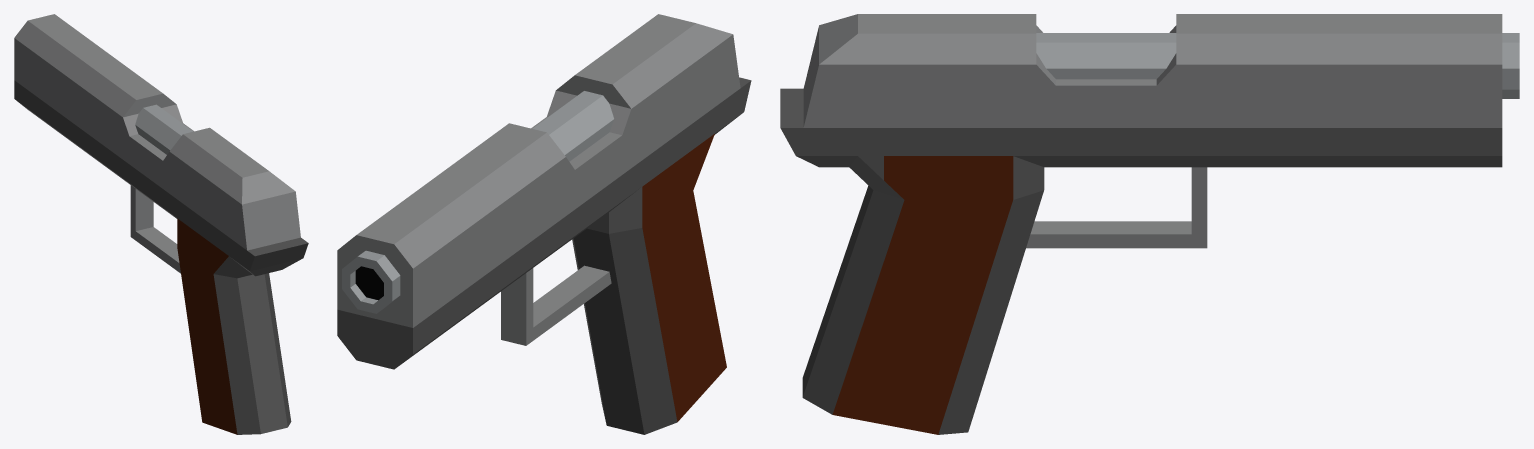
The model's file is gun.gltf.
3 views of the same model, side by side, from view 1: azimuth 30°, elevation 25°; view 2: azimuth 150°, elevation 25°; view 3: azimuth 270°, elevation 25° (orthographic). The views are drawn at different scales.
Visible parts, largest first — view 1: Slide, Grip, Receiver, cuboid, Barrel; view 2: Slide, Grip, Receiver, Barrel, cuboid; view 3: Slide, Grip, Receiver, Barrel, cuboid.
Boxes of the visible parts, x1,y1,x2,y2 form: Slide: [14, 14, 300, 250]; Grip: [177, 218, 291, 434]; Receiver: [14, 80, 308, 276]; cuboid: [130, 185, 180, 273]; Barrel: [135, 104, 192, 154]; Slide: [337, 14, 740, 327]; Grip: [572, 134, 726, 434]; Receiver: [337, 77, 751, 369]; Barrel: [342, 91, 613, 313]; cuboid: [501, 265, 611, 345]; Slide: [803, 14, 1502, 127]; Grip: [802, 156, 1044, 434]; Receiver: [780, 88, 1502, 167]; Barrel: [1036, 33, 1519, 98]; cuboid: [1026, 167, 1207, 248].
Size of the model in its own units: 0.075 by 0.3543 by 0.5953.
1 material, 1 textured.
